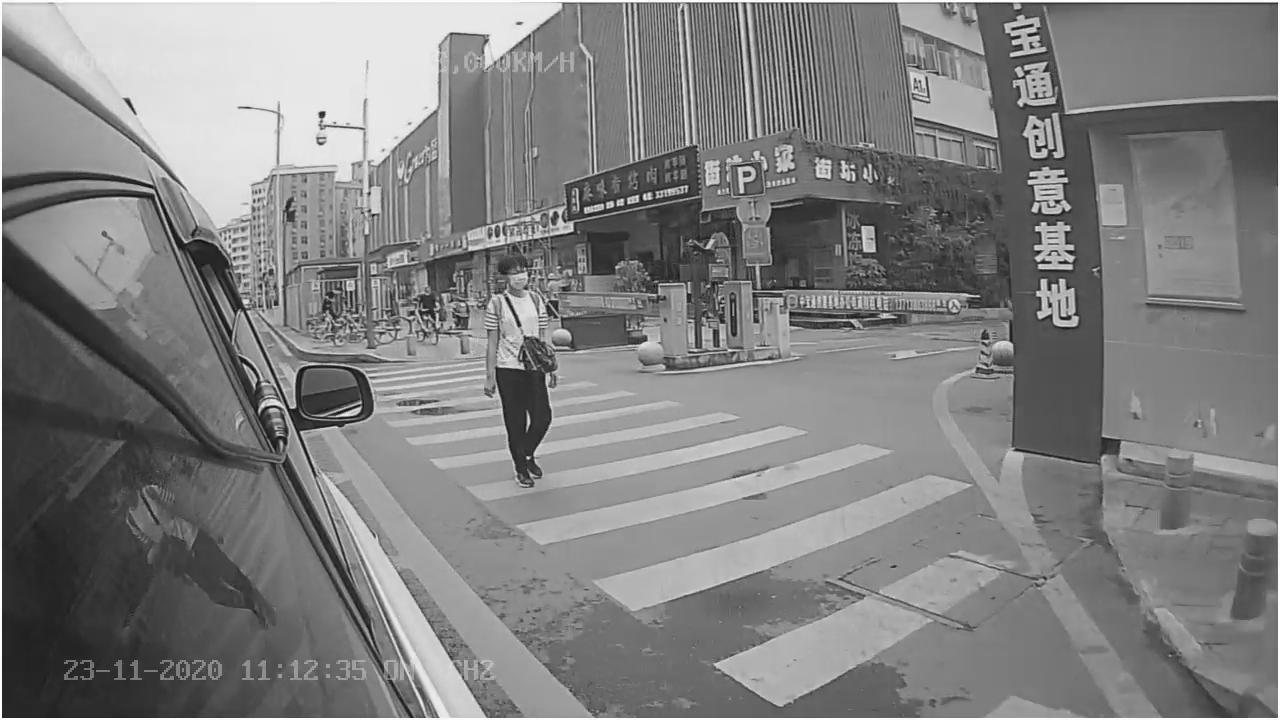person: (481, 251, 562, 497)
